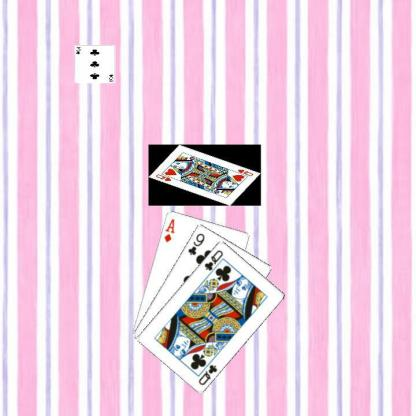9C: (186, 230, 206, 256)
AD: (161, 216, 176, 243)
QC: (202, 247, 224, 272), (196, 362, 218, 386)
